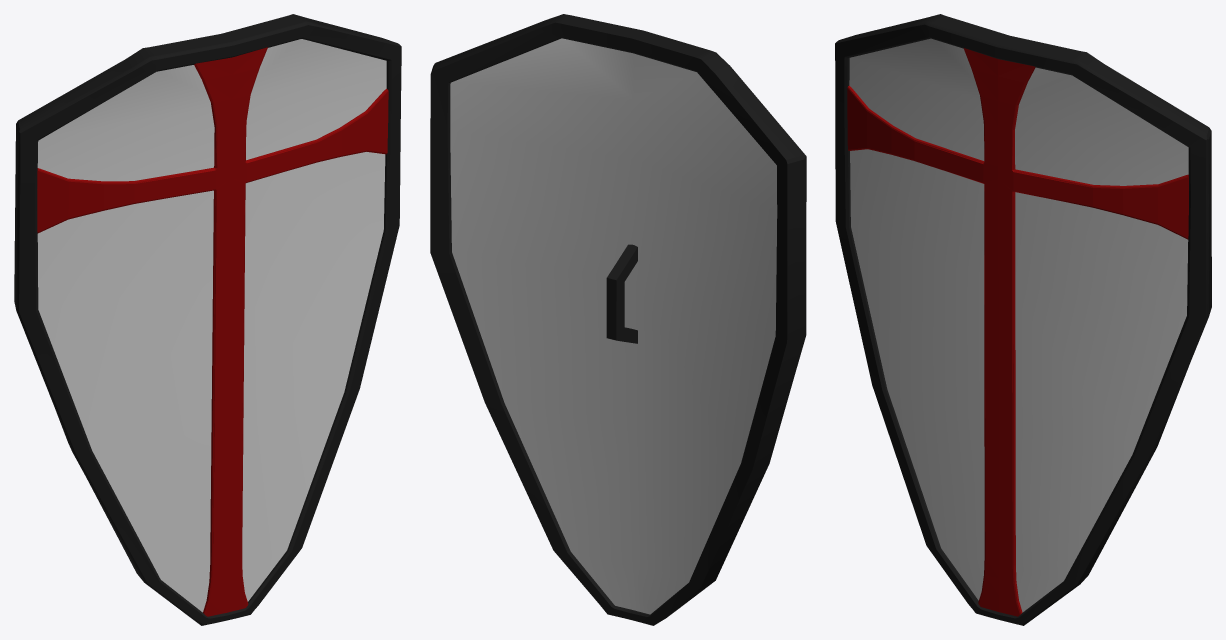
The model's file is shieldV2.FBX.
3 views of the same model, side by side, from view 1: azimuth 30°, elevation 25°; view 2: azimuth 150°, elevation 25°; view 3: azimuth 330°, elevation 25° (orthographic).
Parts seen in each view (by area): view 1: Shield_c; view 2: Shield_c; view 3: Shield_c.
Boxes of the visible parts, x1,y1,x2,y2 form: Shield_c: [14, 14, 401, 625]; Shield_c: [430, 14, 806, 625]; Shield_c: [835, 14, 1211, 625].
Bounding box in the file's own units: 16.06 × 23.52 × 2.81.
